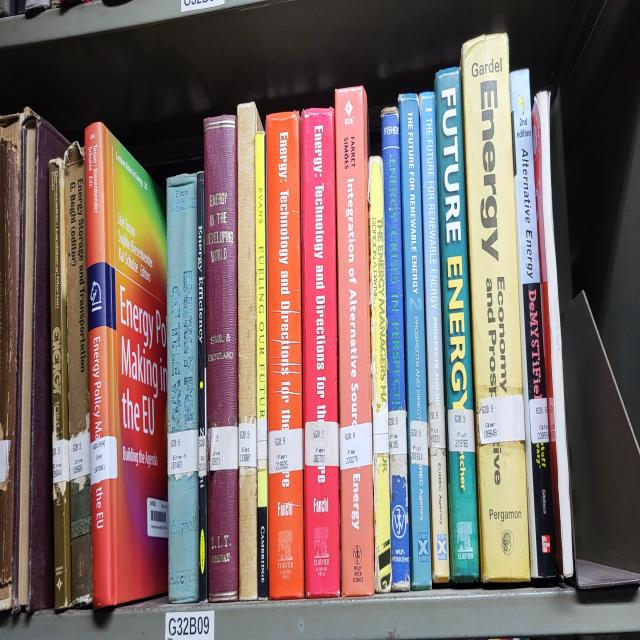Book: (85, 122, 169, 606), (461, 35, 530, 582), (434, 68, 480, 584), (510, 70, 556, 579), (531, 92, 574, 579), (335, 87, 375, 595), (300, 108, 340, 598), (266, 111, 304, 598), (204, 116, 239, 601), (399, 95, 431, 590), (419, 92, 450, 582), (166, 173, 199, 603), (381, 108, 410, 590), (64, 143, 92, 606), (238, 103, 262, 601), (49, 157, 71, 609), (369, 157, 391, 593), (255, 133, 269, 595), (198, 170, 209, 601)
Label: (479, 395, 525, 444), (340, 422, 372, 471), (269, 427, 302, 473), (305, 422, 339, 465), (208, 425, 239, 471), (168, 430, 199, 476), (90, 436, 118, 484), (448, 409, 475, 452), (69, 430, 90, 482), (529, 398, 549, 444), (410, 419, 429, 465), (389, 409, 408, 455), (428, 403, 446, 449), (52, 438, 70, 484), (239, 422, 256, 468), (256, 419, 268, 460), (372, 433, 389, 455), (549, 398, 556, 441), (199, 433, 206, 476)
